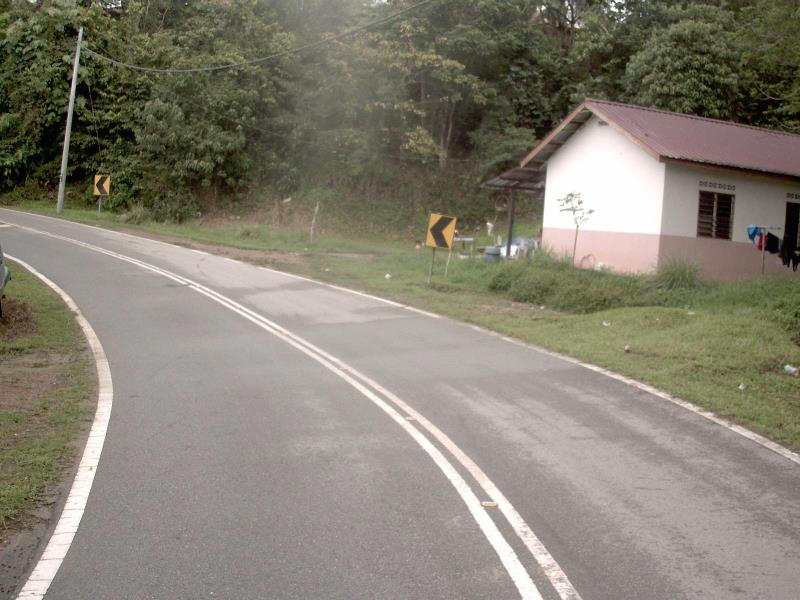traffic_sign: (419, 205, 462, 258)
